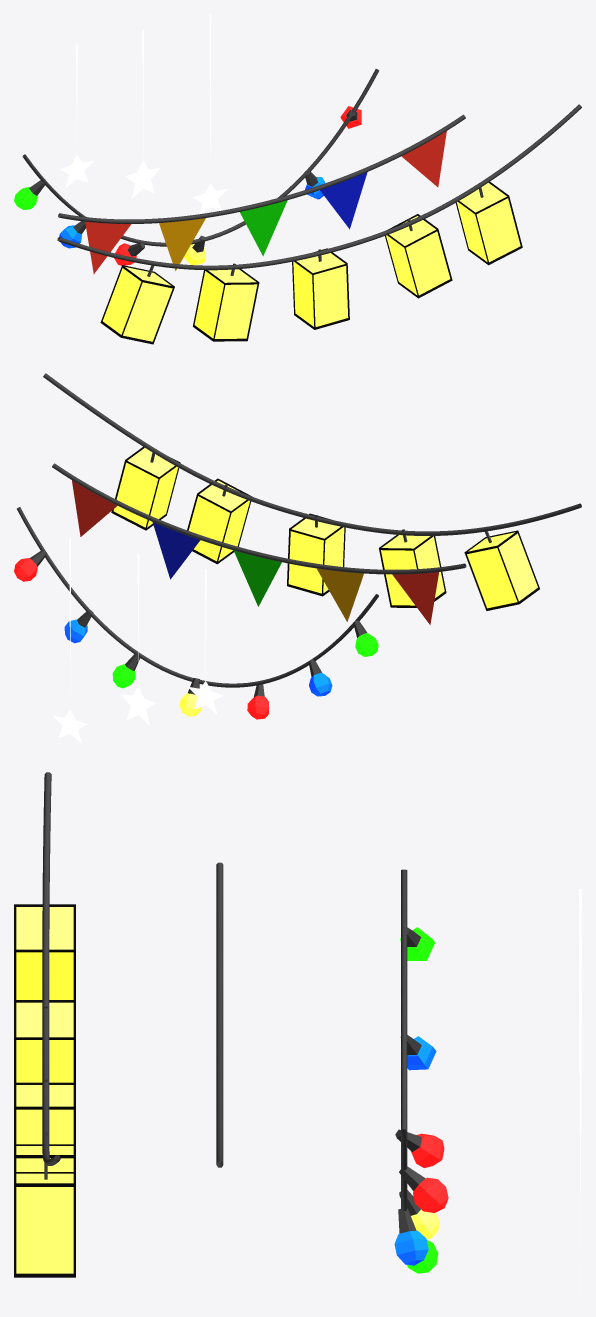
File: fairy_lights.glb
The picture shows the model from 3 angles, top to bottom: view 1: azimuth 30°, elevation 25°; view 2: azimuth 150°, elevation 25°; view 3: azimuth 270°, elevation 25°; orthographic projection. The views are drawn at different scales.
Visible parts, largest first — view 1: square_lamp, square_lamp.001, square_lamp.002, square_lamp.004, square_lamp.003, square-lamp-cable, bandeirinhas-cable, fairy-lights-cable, Plane.002, Plane.001, Plane, Plane.003 (+6 smaller); view 2: square_lamp, square_lamp.004, square_lamp.003, square_lamp.002, square-lamp-cable, square_lamp.001, bandeirinhas-cable, fairy-lights-cable, Plane.004, Plane.002, Plane.001, Plane.003 (+11 smaller); view 3: square_lamp.004, square_lamp, square_lamp.001, square_lamp.002, square-lamp-cable, bandeirinhas-cable, fairy-lights-cable, square_lamp.003, light.006, light.005, light.002, light.001 (+2 smaller).
Part boxes in pixels (x1,y1,x2,y2): square_lamp: (100,265,174,344); square_lamp.001: (193,263,259,341); square_lamp.002: (292,248,349,329); square_lamp.004: (455,182,522,265); square_lamp.003: (385,214,452,298); square-lamp-cable: (57,104,581,270); bandeirinhas-cable: (58,114,465,223); fairy-lights-cable: (22,69,379,246); Plane.002: (240,200,287,256); Plane.001: (320,172,367,229); Plane: (401,131,446,187); Plane.003: (159,218,205,270); square_lamp: (464,530,539,610); square_lamp.004: (111,446,180,530); square_lamp.003: (187,478,251,564); square_lamp.002: (287,513,345,596); square-lamp-cable: (43,373,581,535); square_lamp.001: (379,529,446,607); bandeirinhas-cable: (52,463,466,574); fairy-lights-cable: (17,507,378,687); Plane.004: (392,572,438,624); Plane.002: (233,550,281,606); Plane.001: (152,522,200,579); Plane.003: (316,568,363,621); square_lamp.004: (14,1163,75,1277); square_lamp: (14,904,75,999); square_lamp.001: (14,1000,75,1082); square_lamp.002: (14,1078,75,1144); square-lamp-cable: (42,772,60,1165); bandeirinhas-cable: (216,862,223,1167); fairy-lights-cable: (401,869,407,1211); square_lamp.003: (14,1132,75,1171); light.006: (399,1166,448,1212); light.005: (394,1208,428,1265); light.002: (395,1129,444,1167); light.001: (400,1034,436,1070).
Bounding box in the file's own units: 520 × 190 × 320.
